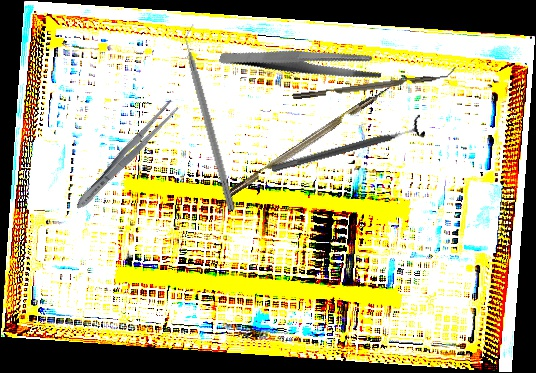Chopper: (217, 73, 400, 200), (178, 22, 246, 212), (291, 66, 458, 100)
Dressing Forceps: (218, 9, 386, 115), (71, 97, 182, 214)
Fixation Ring: (268, 113, 427, 182)
